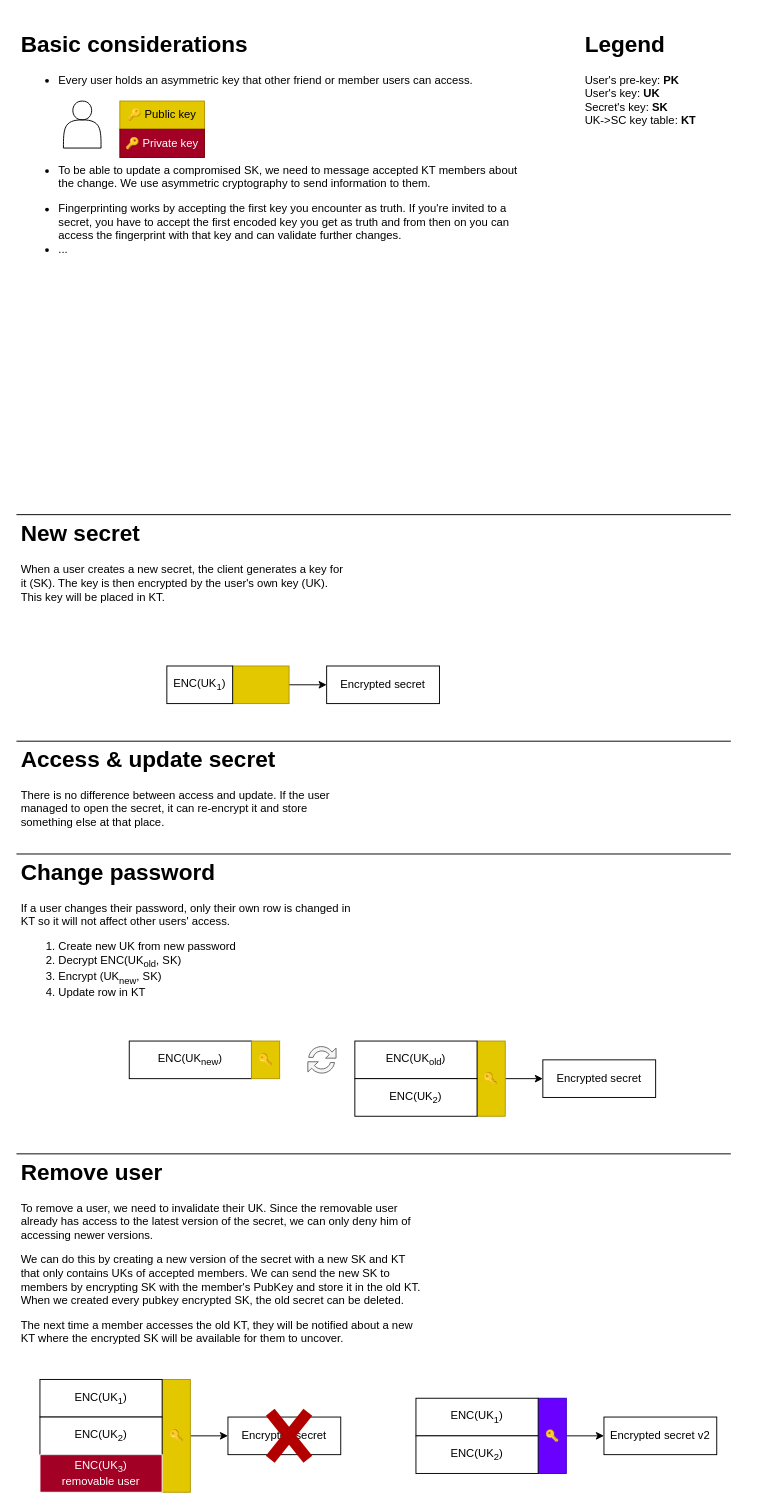
The diagram is 776 pixels wide and 1509 high, and some of its shapes have lost their labels. The shapes that lost their labels are listed below. From the top down, each one's box as (x1, y1, x2, y2) in pixels, then its label:
(63, 100, 101, 148): User
(232, 665, 289, 704): 🔑 SK
